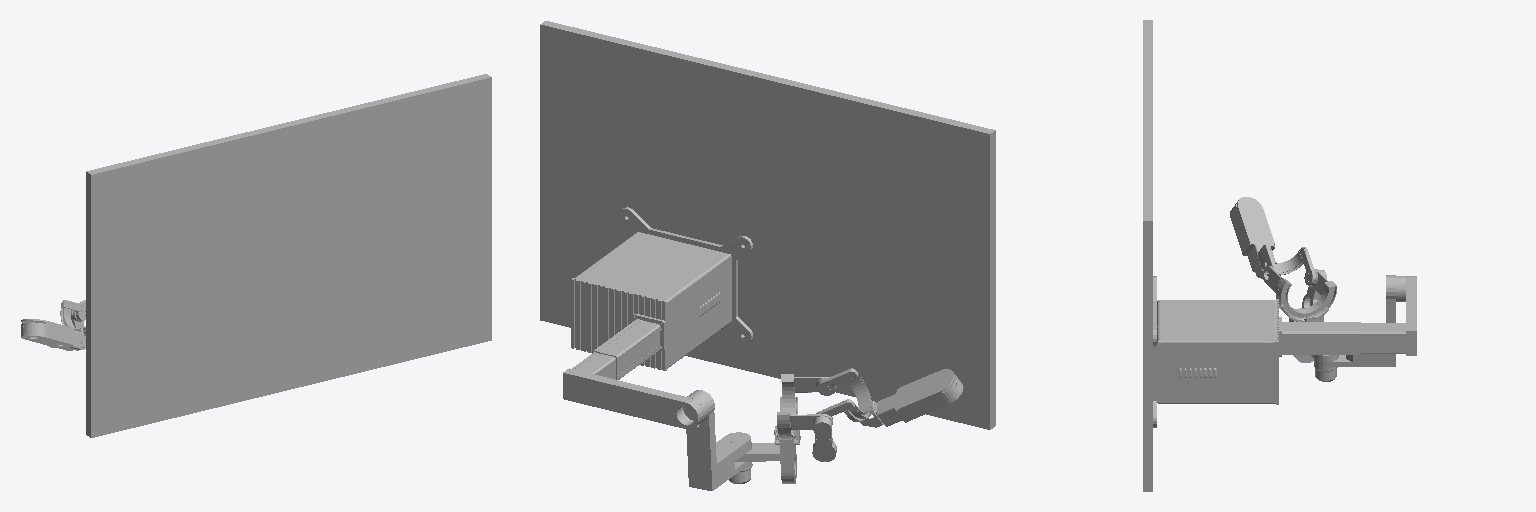
The robot description file, URDF, robot "urdf":
<?xml version="1.0" encoding="utf-8"?>
<!-- This URDF was automatically created by SolidWorks to URDF Exporter! Originally created by Stephen Brawner (brawner@gmail.com) 
     Commit Version: 1.6.0-4-g7f85cfe  Build Version: 1.6.7995.38578
     For more information, please see http://wiki.ros.org/sw_urdf_exporter -->
<robot
  name="urdf">
  <link
    name="base_link">
    <inertial>
      <origin
        xyz="1.01511541476679 0.979772738426542 1.94484982398716"
        rpy="0 0 0" />
      <mass
        value="204.471397584929" />
      <inertia
        ixx="34.0748014293726"
        ixy="1.31647444838851E-05"
        ixz="-0.00038802652716295"
        iyy="85.7294897588447"
        iyz="8.26831420562734E-06"
        izz="119.13304928717" />
    </inertial>
    <visual>
      <origin
        xyz="0 0 0"
        rpy="0 0 0" />
      <geometry>
        <mesh
          filename="package://urdf/meshes/base_link.STL" />
      </geometry>
      <material
        name="">
        <color
          rgba="0.752941176470588 0.752941176470588 0.752941176470588 1" />
      </material>
    </visual>
    <collision>
      <origin
        xyz="0 0 0"
        rpy="0 0 0" />
      <geometry>
        <mesh
          filename="package://urdf/meshes/base_link.STL" />
      </geometry>
    </collision>
  </link>
  <link
    name="link1">
    <inertial>
      <origin
        xyz="0.29201 4.4409E-16 -0.11761"
        rpy="0 0 0" />
      <mass
        value="5.555" />
      <inertia
        ixx="0.052902"
        ixy="-1.1733E-16"
        ixz="0.028183"
        iyy="0.11789"
        iyz="-1.7655E-17"
        izz="0.080233" />
    </inertial>
    <visual>
      <origin
        xyz="0 0 0"
        rpy="0 0 0" />
      <geometry>
        <mesh
          filename="package://urdf/meshes/link1.STL" />
      </geometry>
      <material
        name="">
        <color
          rgba="0.75294 0.75294 0.75294 1" />
      </material>
    </visual>
    <collision>
      <origin
        xyz="0 0 0"
        rpy="0 0 0" />
      <geometry>
        <mesh
          filename="package://urdf/meshes/link1.STL" />
      </geometry>
    </collision>
  </link>
  <joint
    name="joint1"
    type="continuous">
    <origin
      xyz="0.64107 -0.79248 0.68093"
      rpy="1.5708 1.5226 -3.1416" />
    <parent
      link="base_link" />
    <child
      link="link1" />
    <axis
      xyz="0 0 1" />
  </joint>
  <link
    name="link2">
    <inertial>
      <origin
        xyz="0.13752 0.14481 -2.8771E-06"
        rpy="0 0 0" />
      <mass
        value="1.5232" />
      <inertia
        ixx="0.0071449"
        ixy="0.0001696"
        ixz="-4.5816E-07"
        iyy="0.0060951"
        iyz="-4.896E-08"
        izz="0.0071844" />
    </inertial>
    <visual>
      <origin
        xyz="0 0 0"
        rpy="0 0 0" />
      <geometry>
        <mesh
          filename="package://urdf/meshes/link2.STL" />
      </geometry>
      <material
        name="">
        <color
          rgba="0.75294 0.75294 0.75294 1" />
      </material>
    </visual>
    <collision>
      <origin
        xyz="0 0 0"
        rpy="0 0 0" />
      <geometry>
        <mesh
          filename="package://urdf/meshes/link2.STL" />
      </geometry>
    </collision>
  </link>
  <joint
    name="joint2"
    type="continuous">
    <origin
      xyz="0.22496 0 -0.35"
      rpy="-0.4433 0 0" />
    <parent
      link="link1" />
    <child
      link="link2" />
    <axis
      xyz="1 0 0" />
  </joint>
  <link
    name="link3">
    <inertial>
      <origin
        xyz="0.055824 0.031175 0.018719"
        rpy="0 0 0" />
      <mass
        value="1.4992" />
      <inertia
        ixx="0.011284"
        ixy="8.217E-05"
        ixz="-5.41E-06"
        iyy="0.013734"
        iyz="3.6205E-12"
        izz="0.0060304" />
    </inertial>
    <visual>
      <origin
        xyz="0 0 0"
        rpy="0 0 0" />
      <geometry>
        <mesh
          filename="package://urdf/meshes/link3.STL" />
      </geometry>
      <material
        name="">
        <color
          rgba="0.75294 0.75294 0.75294 1" />
      </material>
    </visual>
    <collision>
      <origin
        xyz="0 0 0"
        rpy="0 0 0" />
      <geometry>
        <mesh
          filename="package://urdf/meshes/link3.STL" />
      </geometry>
    </collision>
  </link>
  <joint
    name="joint3"
    type="continuous">
    <origin
      xyz="-0.10396 0.24994 0"
      rpy="0 0.28889 0" />
    <parent
      link="link2" />
    <child
      link="link3" />
    <axis
      xyz="0 1 0" />
  </joint>
  <link
    name="link4">
    <inertial>
      <origin
        xyz="0.019844 -0.083443 -2.6266E-09"
        rpy="0 0 0" />
      <mass
        value="0.717" />
      <inertia
        ixx="0.0033238"
        ixy="-0.00023308"
        ixz="2.3296E-11"
        iyy="0.0021926"
        iyz="3.1744E-11"
        izz="0.0022927" />
    </inertial>
    <visual>
      <origin
        xyz="0 0 0"
        rpy="0 0 0" />
      <geometry>
        <mesh
          filename="package://urdf/meshes/link4.STL" />
      </geometry>
      <material
        name="">
        <color
          rgba="0.75294 0.75294 0.75294 1" />
      </material>
    </visual>
    <collision>
      <origin
        xyz="0 0 0"
        rpy="0 0 0" />
      <geometry>
        <mesh
          filename="package://urdf/meshes/link4.STL" />
      </geometry>
    </collision>
  </link>
  <joint
    name="joint4"
    type="continuous">
    <origin
      xyz="0.0010916 0.15981 0"
      rpy="3.1416 0 0.48118" />
    <parent
      link="link3" />
    <child
      link="link4" />
    <axis
      xyz="0 0 1" />
  </joint>
  <link
    name="link5">
    <inertial>
      <origin
        xyz="2.346E-05 0.15947 -0.11773"
        rpy="0 0 0" />
      <mass
        value="1.6481" />
      <inertia
        ixx="0.0099484"
        ixy="1.5535E-06"
        ixz="5.4216E-06"
        iyy="0.013286"
        iyz="-0.00010207"
        izz="0.0053079" />
    </inertial>
    <visual>
      <origin
        xyz="0 0 0"
        rpy="0 0 0" />
      <geometry>
        <mesh
          filename="package://urdf/meshes/link5.STL" />
      </geometry>
      <material
        name="">
        <color
          rgba="0.75294 0.75294 0.75294 1" />
      </material>
    </visual>
    <collision>
      <origin
        xyz="0 0 0"
        rpy="0 0 0" />
      <geometry>
        <mesh
          filename="package://urdf/meshes/link5.STL" />
      </geometry>
    </collision>
  </link>
  <joint
    name="joint5"
    type="continuous">
    <origin
      xyz="0.0200000000000027 -0.269589385699995 0"
      rpy="1.57079632679479 -1.53819930086465 -3.14159265358969" />
    <parent
      link="link4" />
    <child
      link="link5" />
    <axis
      xyz="0 0 1" />
  </joint>
  <link
    name="link6">
    <inertial>
      <origin
        xyz="-0.099563 0.067108 -0.13405"
        rpy="0 0 0" />
      <mass
        value="0.3035" />
      <inertia
        ixx="0.00023063"
        ixy="-6.2426E-07"
        ixz="-2.1409E-06"
        iyy="0.00024172"
        iyz="1.6095E-06"
        izz="0.00035953" />
    </inertial>
    <visual>
      <origin
        xyz="0 0 0"
        rpy="0 0 0" />
      <geometry>
        <mesh
          filename="package://urdf/meshes/link6.STL" />
      </geometry>
      <material
        name="">
        <color
          rgba="0.75294 0.75294 0.75294 1" />
      </material>
    </visual>
    <collision>
      <origin
        xyz="0 0 0"
        rpy="0 0 0" />
      <geometry>
        <mesh
          filename="package://urdf/meshes/link6.STL" />
      </geometry>
    </collision>
  </link>
  <joint
    name="joint6"
    type="continuous">
    <origin
      xyz="-0.000513987843722807 0 -0.264410614300005"
      rpy="-1.57079632913452 -0.651936070462016 -3.14159265149743" />
    <parent
      link="link5" />
    <child
      link="link6" />
    <axis
      xyz="0 0 1" />
  </joint>
</robot>

--- Facts derived from the render (not from the file) ---
Views: 3 orthographic renders of the robot side by side, from view 1: azimuth 30°, elevation 25°; view 2: azimuth 150°, elevation 25°; view 3: azimuth 270°, elevation 25°.
Model urdf with 7 links and 6 joints (6 continuous), rooted at base_link, posed every joint at zero.
Visible links, largest first — view 1: base_link, link5; view 2: base_link, link1, link5, link3, link4, link2; view 3: base_link, link5, link3, link1, link4.
Boxes of the visible links, x1,y1,x2,y2 form: base_link: (86, 74, 491, 437); link5: (21, 319, 85, 350); base_link: (540, 21, 995, 429); link1: (686, 390, 752, 490); link5: (858, 369, 963, 427); link3: (776, 374, 836, 461); link4: (816, 368, 871, 421); link2: (735, 426, 800, 483); base_link: (1143, 20, 1416, 491); link5: (1230, 197, 1280, 278); link3: (1263, 266, 1336, 321); link1: (1314, 275, 1395, 381); link4: (1257, 244, 1315, 285).
Size in the robot's own frame: 2.5 by 1.37 by 1.6 metres.
6 mesh visuals loaded from 7 distinct referenced files (6 binary STL); not drawn: 1 (reference not matched to a file when rendering).
